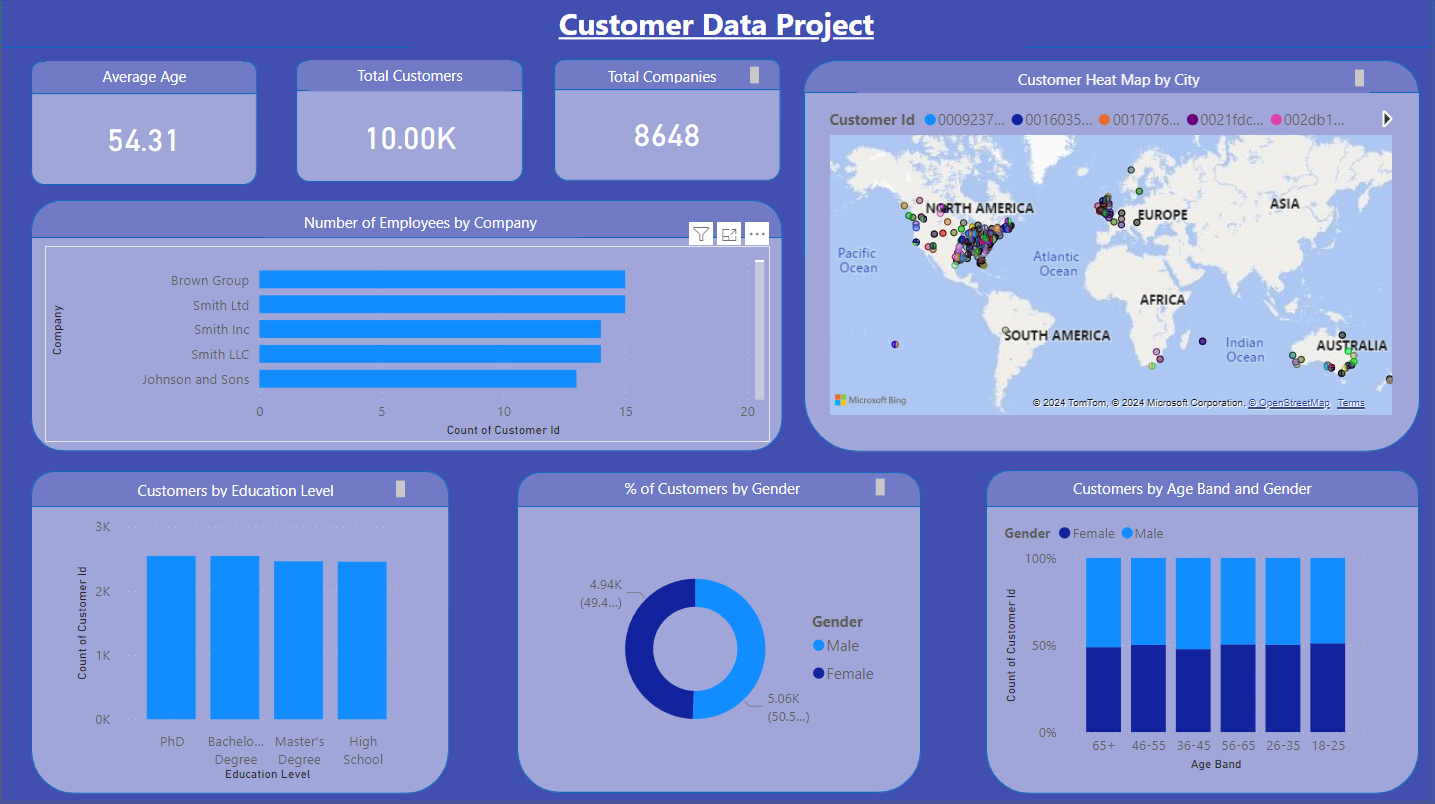

This screenshot's page, from the dashboard's own definition file:
{"tool":"powerbi","page":{"name":"Page 1","canvas":[1280,720],"ordinal":0},"visuals":[{"type":"shape","box":[0,0,1280,45.7],"z":0},{"type":"textbox","box":[365.7,0,548.6,45.7],"z":1000},{"type":"shape","box":[716.9,56.5,551.8,200.1],"z":2000},{"type":"shape","box":[718,84.8,551.8,322.3],"z":3000},{"type":"shape","box":[494,55.3,203,62],"z":4000},{"type":"map","fields":{"Category":["customer_data_final_v2.City"],"Series":["customer_data_final_v2.Customer Id"]},"box":[736.1,89.3,514.5,290.6],"z":5000},{"type":"shape","box":[494,82.4,203,82.3],"z":6000},{"type":"shape","box":[263.5,56.5,203.5,62.2],"z":7000},{"type":"shape","box":[263.5,83.7,203.5,82.5],"z":8000},{"type":"shape","box":[26,57.7,202.4,62.2],"z":9000},{"type":"shape","box":[26,85.9,202.4,82.5],"z":10000},{"type":"shape","box":[26,182,672.8,177.5],"z":11000},{"type":"shape","box":[26,215,673,192],"z":12000},{"type":"shape","box":[25.6,424.4,374.4,136.7],"z":13000},{"type":"shape","box":[25.6,455.6,374.4,257.8],"z":14000},{"type":"shape","box":[881.1,423.3,387.8,137.8],"z":15000},{"type":"shape","box":[881.1,455.6,387.8,257.8],"z":16000},{"type":"shape","box":[461.2,425,361.8,136.8],"z":17000},{"type":"shape","box":[461,456,362,257],"z":18000},{"type":"donutChart","fields":{"Y":["CountNonNull(customer_data_final_v2.Customer Id)"],"Category":["customer_data_final_v2.Gender"]},"box":[511,460,285,247],"z":19000},{"type":"clusteredBarChart","fields":{"Y":["CountNonNull(customer_data_final_v2.Customer Id)"],"Category":["customer_data_final_v2.Company"]},"box":[38.9,223.3,648.9,175.6],"z":20000},{"type":"columnChart","fields":{"Category":["customer_data_final_v2.Education Level"],"Y":["CountNonNull(customer_data_final_v2.Customer Id)"]},"box":[61.1,460.2,313.2,246.5],"z":21000},{"type":"hundredPercentStackedColumnChart","fields":{"Category":["customer_data_final_v2.Age Band"],"Series":["customer_data_final_v2.Gender"],"Y":["CountNonNull(customer_data_final_v2.Customer Id)"]},"box":[893,460,332,237],"z":22000},{"type":"card","fields":{"Values":["Count(customer_data_final_v2.Company)"]},"box":[529.2,85.9,132.3,72.4],"z":23000},{"type":"card","fields":{"Values":["CountNonNull(customer_data_final_v2.Customer Id)"]},"box":[274.8,88.2,180.9,73.5],"z":24000},{"type":"card","fields":{"Values":["Avg(customer_data_final_v2.Age)"]},"box":[37.3,91.6,177.5,71.2],"z":25000},{"type":"textbox","box":[39.6,57.7,176.4,28.3],"z":26000},{"type":"textbox","box":[274.8,56.5,180.9,28.3],"z":27000},{"type":"textbox","box":[507.3,57.3,176.4,25.5],"z":28000},{"type":"textbox","box":[233.6,187.9,281.4,27.1],"z":28001},{"type":"textbox","box":[60.9,428.2,304.5,25.5],"z":28002},{"type":"textbox","box":[484.6,426.2,310.8,25.4],"z":28003},{"type":"textbox","box":[914,426,303,27],"z":28004},{"type":"textbox","box":[766,60,459,26],"z":28005}]}

Visuals, with their boxes in screenshot pixels (x1, y1, x2, y2), scaled from the page's 1280x720 canvas onto the 1435x804 screenshot:
shape: 0:0:1434:51
textbox: 410:0:1025:51
shape: 804:63:1422:287
shape: 805:95:1424:455
shape: 554:62:781:131
map - customer_data_final_v2.City x customer_data_final_v2.Customer Id: 825:100:1402:424
shape: 554:92:781:184
shape: 295:63:524:133
shape: 295:93:524:186
shape: 29:64:256:134
shape: 29:96:256:188
shape: 29:203:783:401
shape: 29:240:784:454
shape: 29:474:448:627
shape: 29:509:448:797
shape: 988:473:1423:627
shape: 988:509:1423:797
shape: 517:475:923:627
shape: 517:509:923:796
donutChart - CountNonNull(customer_data_final_v2.Customer Id) x customer_data_final_v2.Gender: 573:514:892:789
clusteredBarChart - CountNonNull(customer_data_final_v2.Customer Id) x customer_data_final_v2.Company: 44:249:771:445
columnChart - customer_data_final_v2.Education Level x CountNonNull(customer_data_final_v2.Customer Id): 68:514:420:789
hundredPercentStackedColumnChart - customer_data_final_v2.Age Band x customer_data_final_v2.Gender: 1001:514:1373:778
card - Count(customer_data_final_v2.Company): 593:96:742:177
card - CountNonNull(customer_data_final_v2.Customer Id): 308:98:511:181
card - Avg(customer_data_final_v2.Age): 42:102:241:182
textbox: 44:64:242:96
textbox: 308:63:511:95
textbox: 569:64:766:92
textbox: 262:210:577:240
textbox: 68:478:410:507
textbox: 543:476:892:504
textbox: 1025:476:1364:506
textbox: 859:67:1373:96
